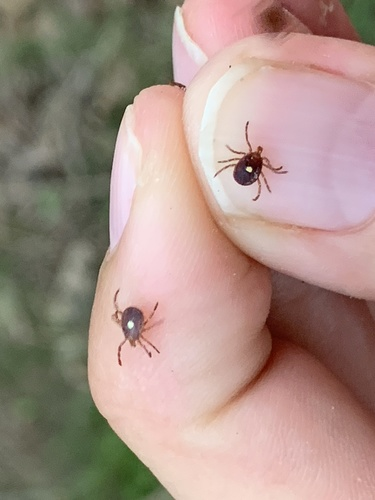dog tick: (122, 308, 148, 347)
